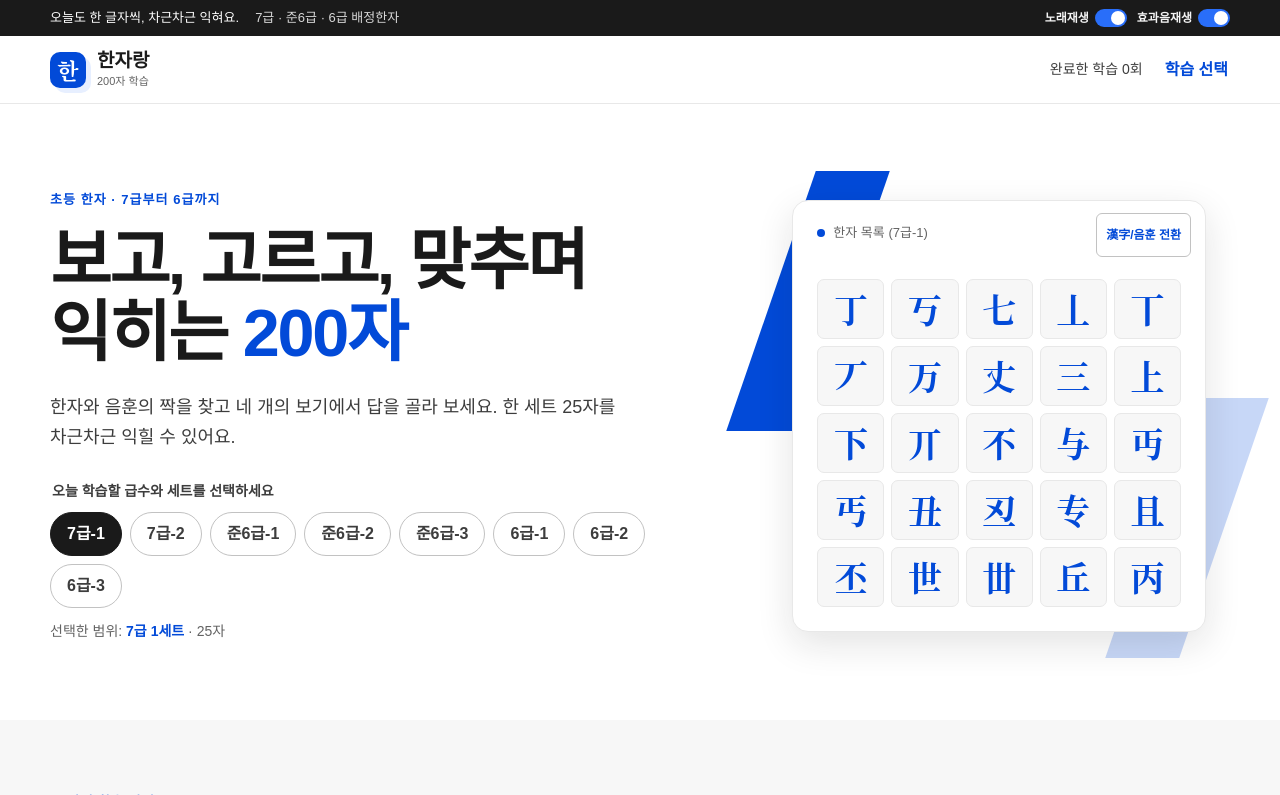
Test: 선택 세트의 25자 목록을 5×5로 보여 주고 한자와 음훈을 전환한다
Expected: the text "한자 목록 (7급-1)" is shown, [817, 223, 928, 242]
Click the button with aria-label "漢字/음훈 전환, 현재 한자 보기" at coordinates (1144, 235), box [1096, 213, 1191, 257]
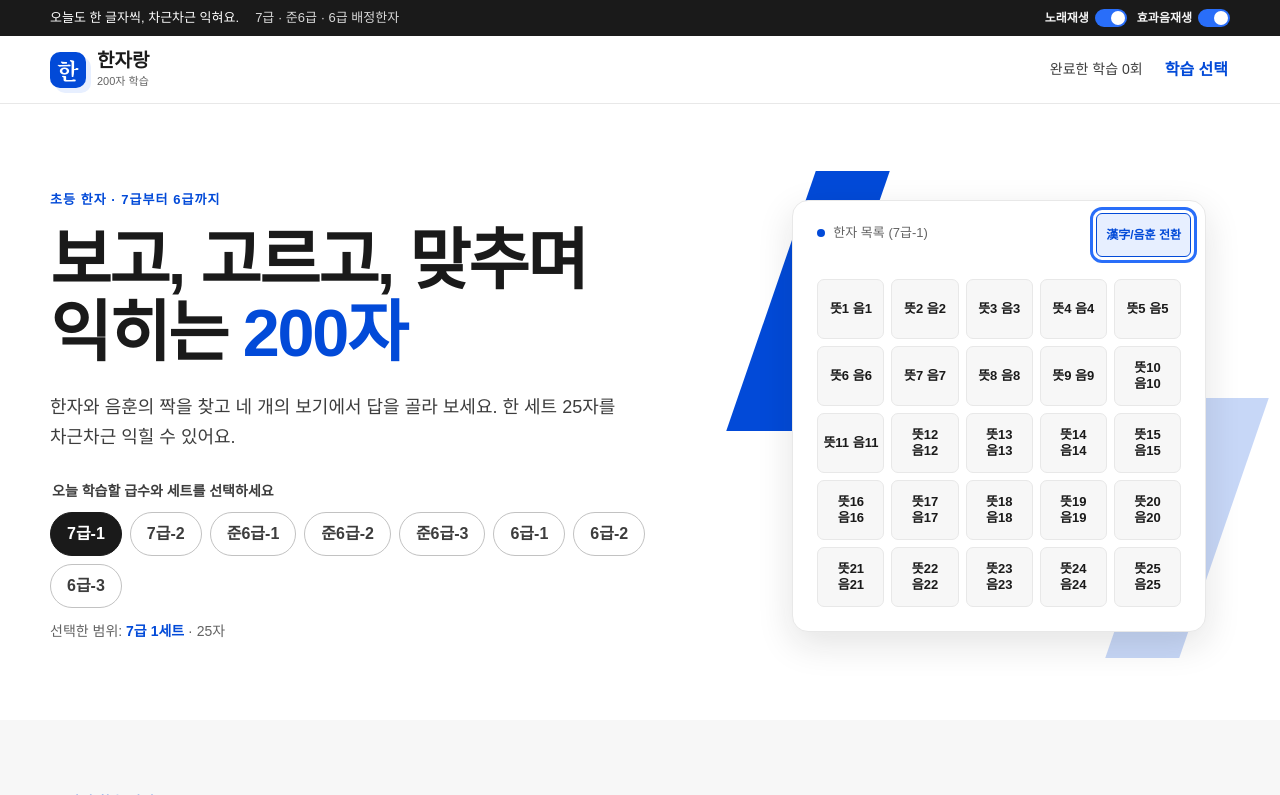
Click the button with test id "study-set-6급-3" at coordinates (86, 586), box [50, 564, 122, 608]
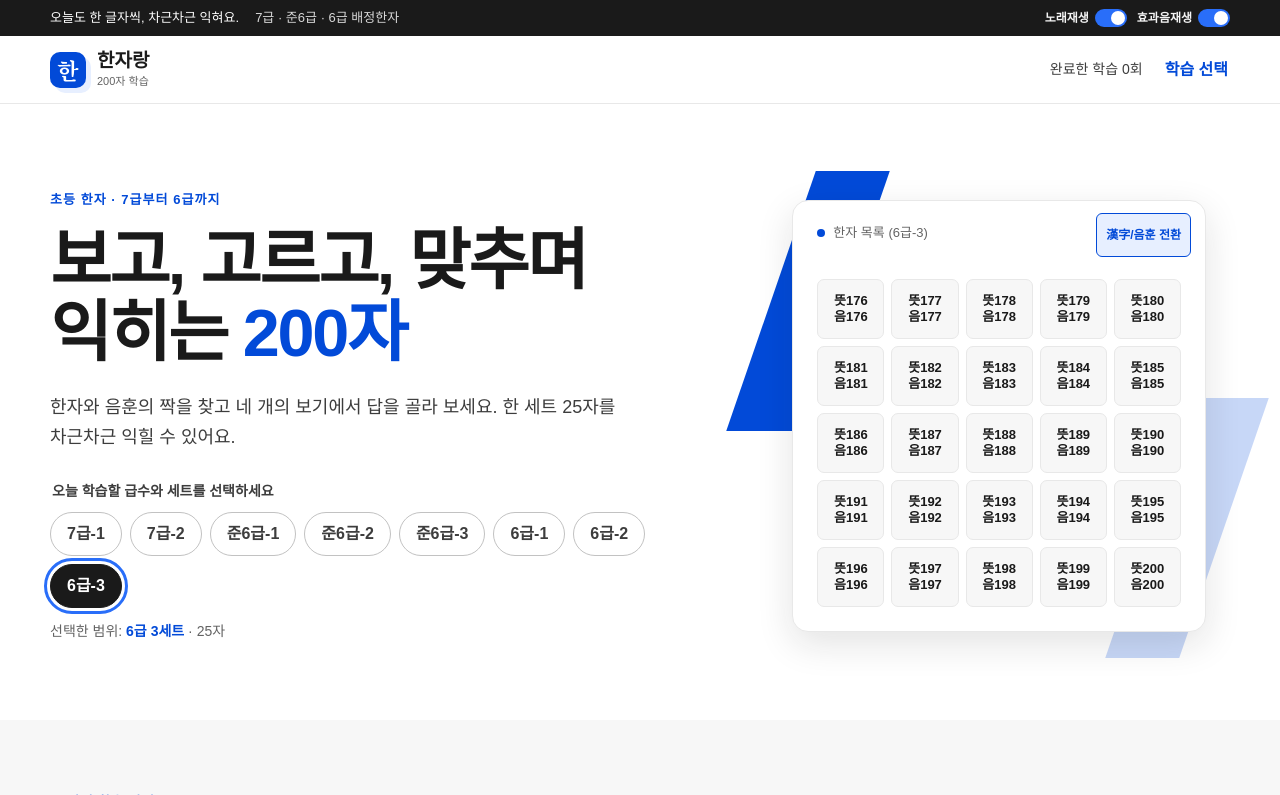
Result: the text "한자 목록 (6급-3)" is shown at [817, 223, 928, 242]
